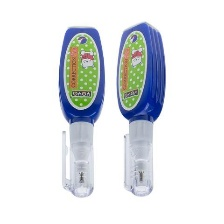correction_fluid: (114, 21, 166, 197), (57, 26, 105, 198)
